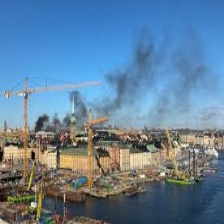smoke: (37, 51, 167, 128)
